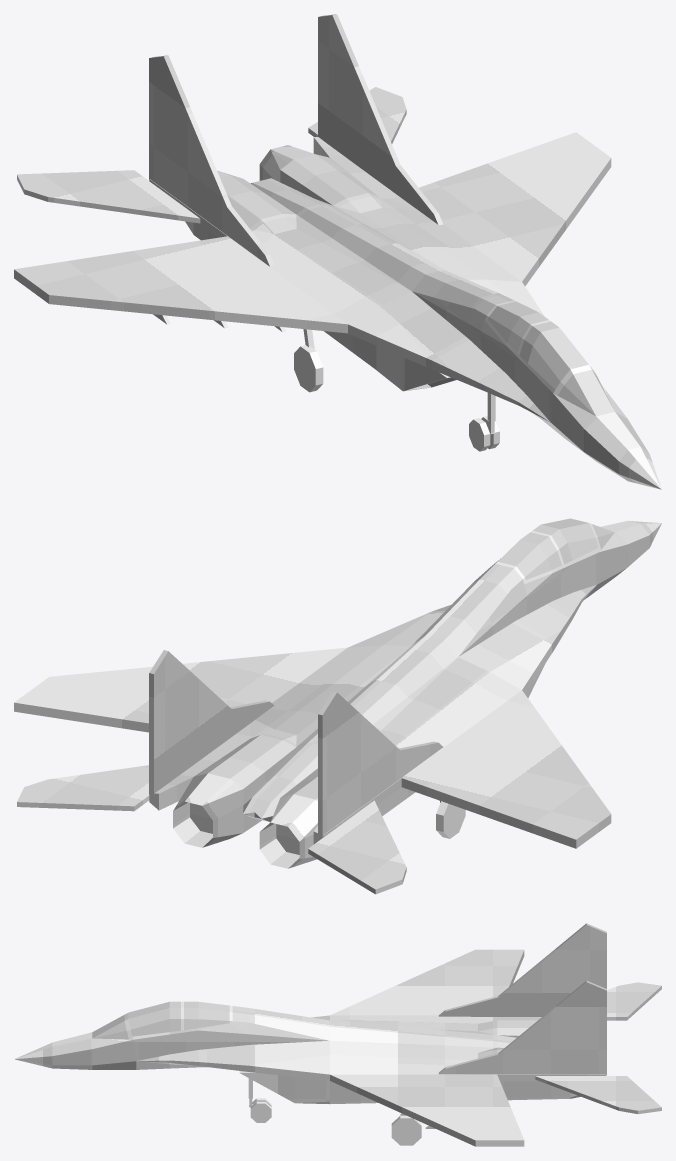
File: eden_plane.obj
The picture shows the model from 3 angles, top to bottom: view 1: azimuth 30°, elevation 25°; view 2: azimuth 150°, elevation 25°; view 3: azimuth 270°, elevation 25°; orthographic projection. The views are drawn at different scales.
Visible parts, largest first — view 1: body, z_glass, surface5, lg2, surface4, lg0, surface1, surface0, surface3, frame_out, surface2; view 2: body, surface5, surface4, z_glass, surface2, surface3, surface0, surface1, lg2, frame_out; view 3: body, z_glass, surface4, surface5, surface0, lg1, frame_out, lg0, surface1, surface3, surface2.
Boxes of the visible parts, x1,y1,x2,y2 form: body: (14,14,661,489); z_glass: (488,301,614,416); surface5: (17,170,200,223); lg2: (294,329,323,392); surface4: (308,87,406,143); lg0: (469,393,499,451); surface1: (149,94,169,168); surface0: (318,53,338,127); surface3: (54,252,142,270); frame_out: (485,300,596,395); surface2: (484,143,553,176); body: (14,520,661,868); surface5: (308,800,406,894); surface4: (17,765,149,811); z_glass: (492,518,614,579); surface2: (54,701,142,728); surface3: (483,795,552,837); surface0: (149,702,174,770); surface1: (318,743,342,811); lg2: (436,801,465,838); frame_out: (488,523,600,583); body: (14,923,606,1146); z_glass: (92,1001,229,1039); surface4: (535,1076,661,1114); surface5: (607,982,661,1020); surface0: (578,1016,606,1057); lg1: (391,1115,421,1145); frame_out: (124,1001,232,1039); lg0: (248,1078,271,1122); surface1: (584,958,606,988); surface3: (488,962,519,985); surface2: (488,1105,518,1127).
Bounding box in the file's own units: 14.27 × 5.84 × 20.47.
